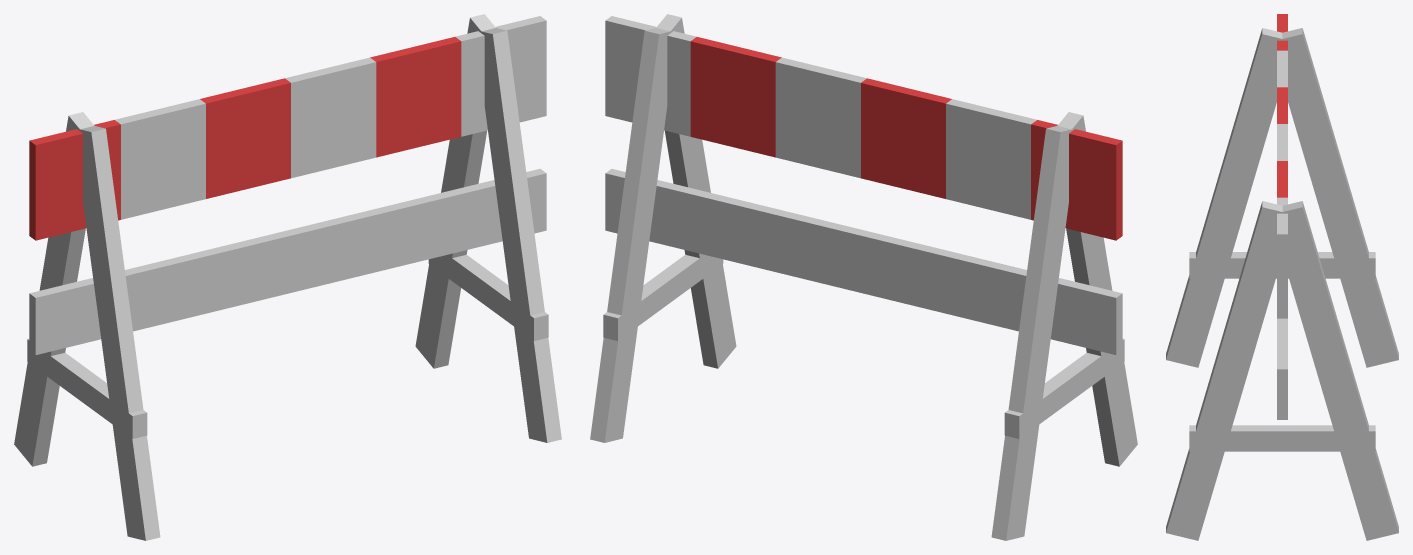
Rendered from barricade_a_frame.glb.
3 views of the same model, side by side, from view 1: azimuth 30°, elevation 25°; view 2: azimuth 150°, elevation 25°; view 3: azimuth 270°, elevation 25° (orthographic). The views are drawn at different scales.
Parts seen in each view (by area): view 1: barricade_a_frame; view 2: barricade_a_frame; view 3: barricade_a_frame.
Part boxes in pixels (x1,y1,x2,y2): barricade_a_frame: (14, 14, 561, 540); barricade_a_frame: (590, 14, 1137, 540); barricade_a_frame: (1166, 14, 1398, 540).
Bounding box in the file's own units: 1.4 × 0.9892 × 0.6258.
